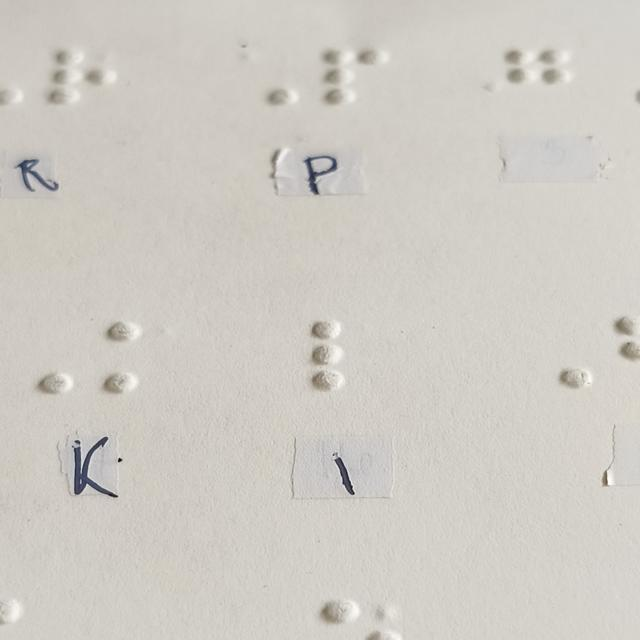capital_sign: (5, 323, 74, 395), (527, 317, 595, 390), (234, 49, 298, 106)
letter_K: (104, 319, 172, 392)
letter_P: (325, 47, 390, 105)
letter_g: (506, 47, 571, 105)
letter_l: (312, 318, 380, 391)
letter_r: (52, 48, 116, 104)
